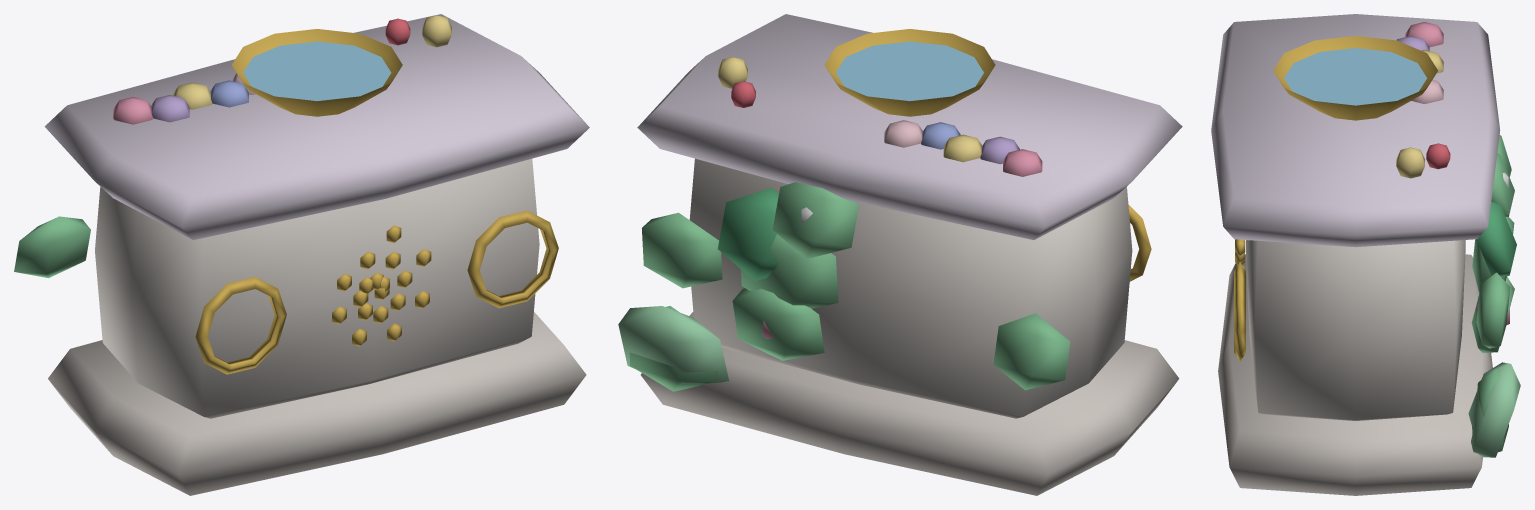
The model's file is shrine_altar.gltf.
The picture shows the model from 3 angles, left to right: view 1: azimuth 30°, elevation 25°; view 2: azimuth 150°, elevation 25°; view 3: azimuth 270°, elevation 25°; orthographic projection. The views are drawn at different scales.
Visible parts, largest first — view 1: shrine_altar; view 2: shrine_altar; view 3: shrine_altar.
Boxes of the visible parts, bbox=[...] form: shrine_altar: bbox=[14, 14, 589, 495]; shrine_altar: bbox=[618, 14, 1182, 495]; shrine_altar: bbox=[1211, 14, 1520, 495].
Size of what is drawn, in the model's own units: 1.83 by 1.33 by 1.12.
